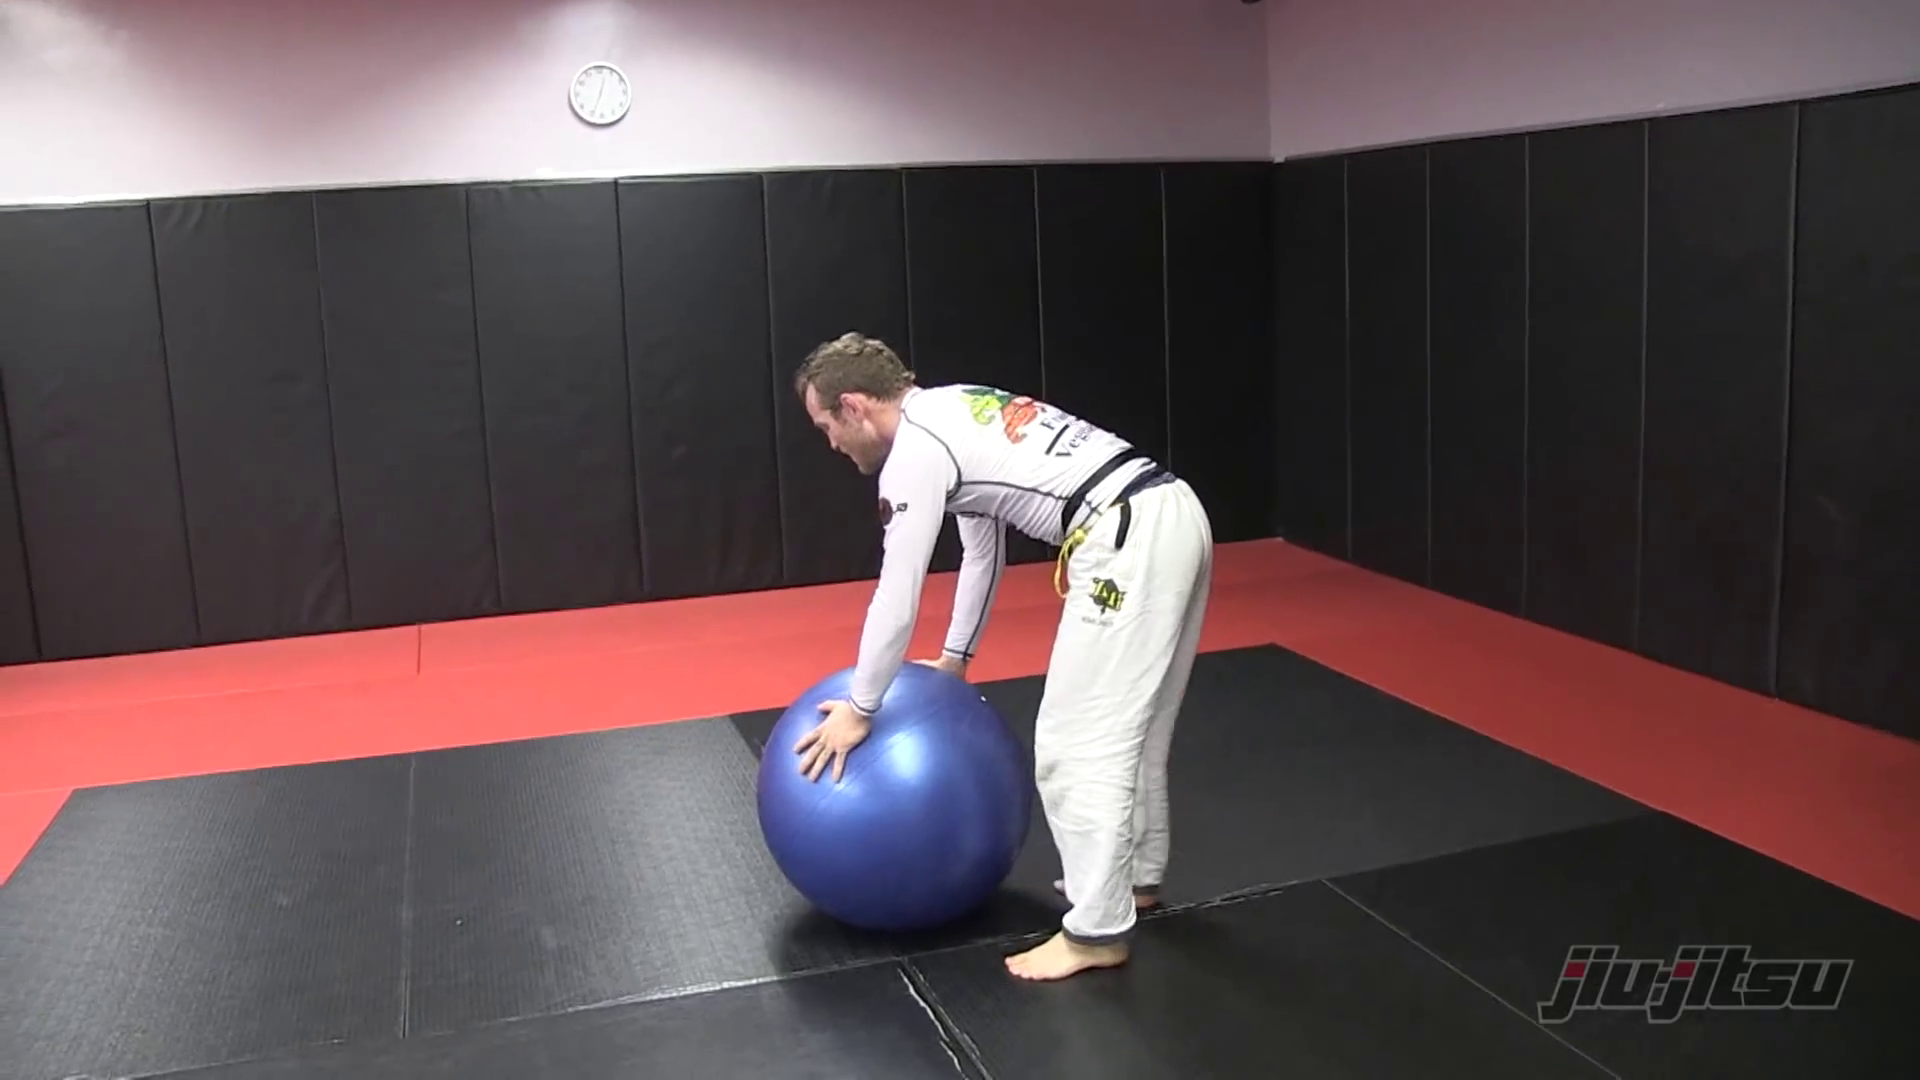yogaball: (741, 657, 1048, 949)
